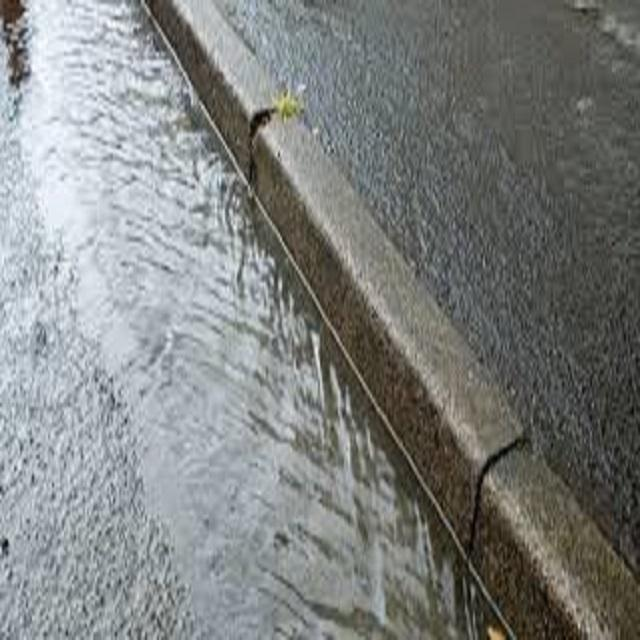curb: (430, 453, 637, 632), (360, 318, 518, 480), (299, 204, 453, 353), (232, 80, 350, 227), (152, 1, 267, 105)
